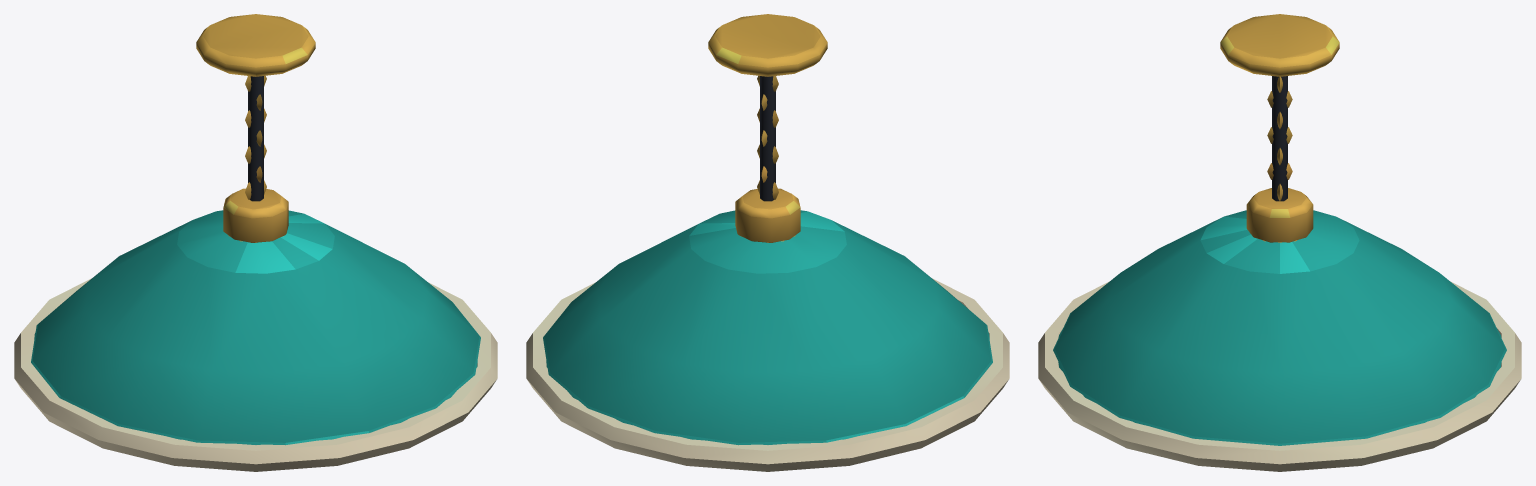
File: SM_Lobby_PendantLamp.fbx
3 views of the same model, side by side, from view 1: azimuth 30°, elevation 25°; view 2: azimuth 150°, elevation 25°; view 3: azimuth 270°, elevation 25° (orthographic).
Visible parts, largest first — view 1: SM_Lobby_PendantLamp; view 2: SM_Lobby_PendantLamp; view 3: SM_Lobby_PendantLamp.
Part boxes in pixels (bbox=[...]): SM_Lobby_PendantLamp: bbox=[14, 14, 497, 471]; SM_Lobby_PendantLamp: bbox=[526, 14, 1009, 471]; SM_Lobby_PendantLamp: bbox=[1038, 14, 1521, 471].
Bounding box in the file's own units: 74.06 × 69.08 × 72.94.
